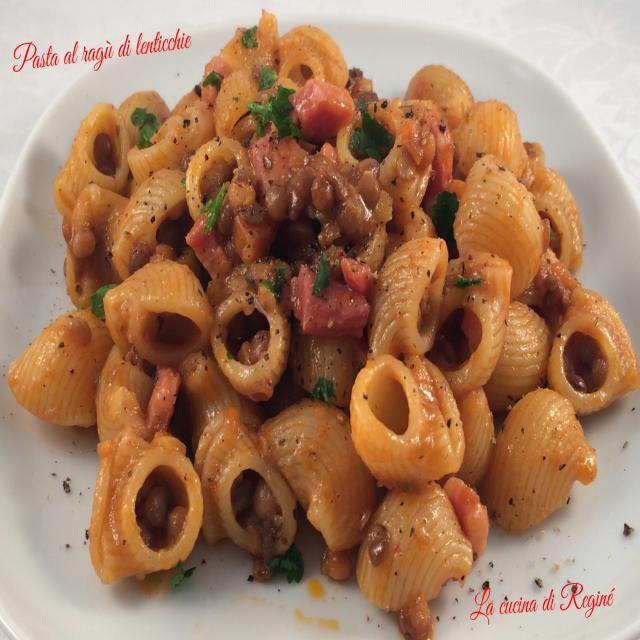Pasta al ragu: (27, 17, 619, 589)
